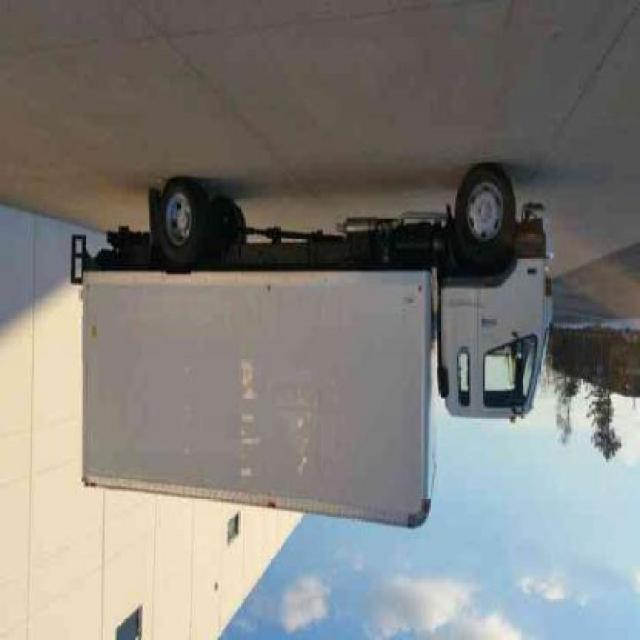truck: (71, 173, 557, 532)
